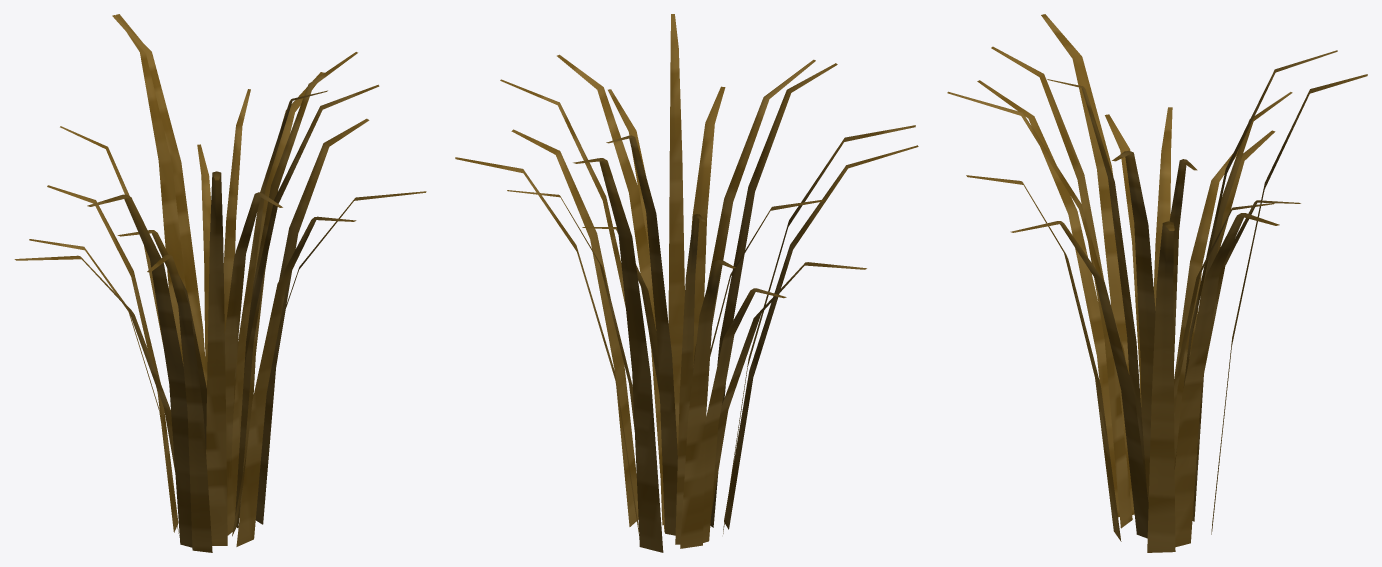
File: grass_dry3-lod0.glb
The picture shows the model from 3 angles, left to right: view 1: azimuth 30°, elevation 25°; view 2: azimuth 150°, elevation 25°; view 3: azimuth 270°, elevation 25°; orthographic projection. The views are drawn at different scales.
Parts seen in each view (by area): view 1: TZ_ground_plant_Batch_00_LOD0; view 2: TZ_ground_plant_Batch_00_LOD0; view 3: TZ_ground_plant_Batch_00_LOD0.
Boxes of the visible parts, bbox=[...] form: TZ_ground_plant_Batch_00_LOD0: bbox=[14, 14, 426, 552]; TZ_ground_plant_Batch_00_LOD0: bbox=[455, 14, 918, 552]; TZ_ground_plant_Batch_00_LOD0: bbox=[947, 14, 1367, 552].
Bounding box in the file's own units: 0.4549 × 0.56 × 0.4429.
Materials: 1 (1 with a texture image).
